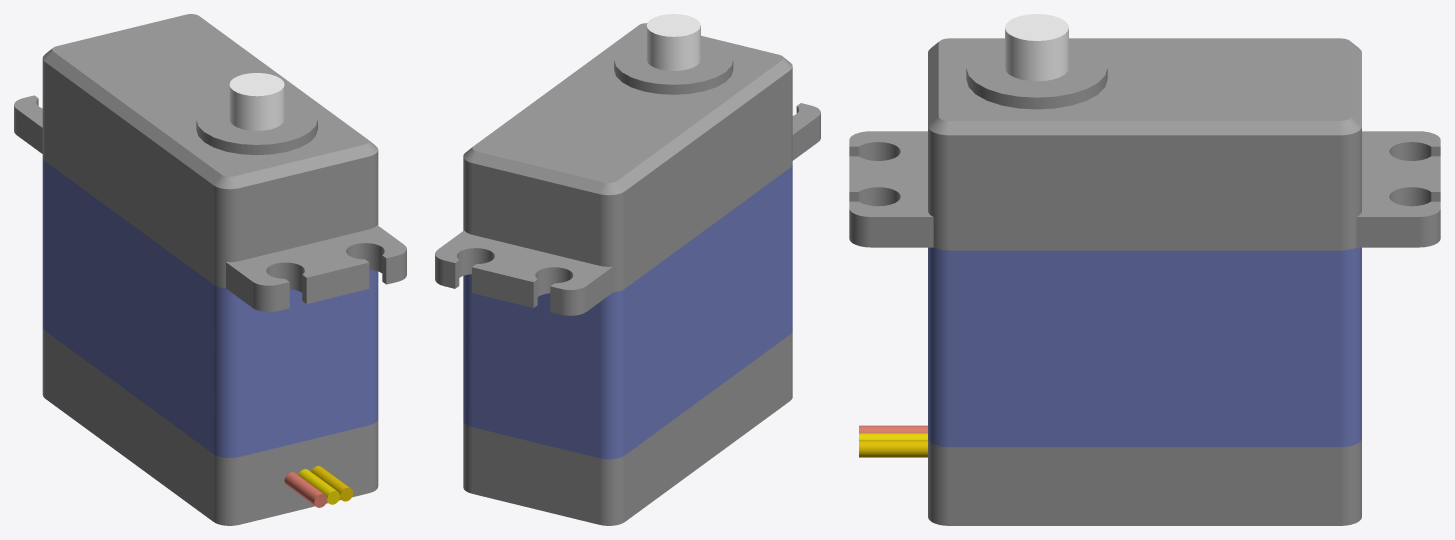
3 views of the same model, side by side, from view 1: azimuth 30°, elevation 25°; view 2: azimuth 150°, elevation 25°; view 3: azimuth 270°, elevation 25° (orthographic). The views are drawn at different scales.
Visible parts, largest first — view 1: DS3218; view 2: DS3218; view 3: DS3218.
Boxes of the visible parts, left/top/right/bottom form: DS3218: left=14, top=14, right=406, bottom=525; DS3218: left=435, top=14, right=820, bottom=525; DS3218: left=849, top=14, right=1440, bottom=525.
Size of the model in its own units: 2 by 5.45 by 4.6.
